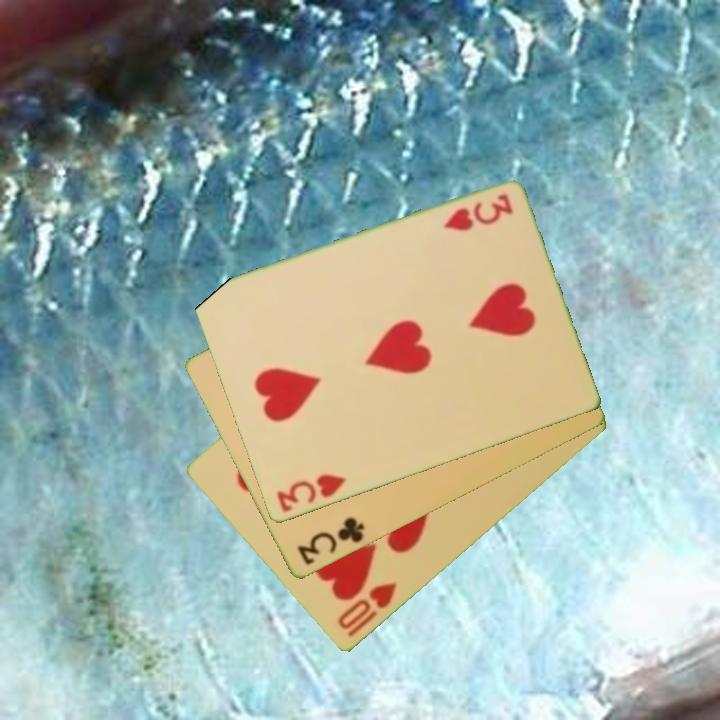10h: (334, 579, 400, 641)
3c: (293, 514, 367, 569)
3h: (272, 471, 348, 516), (439, 191, 516, 235)
